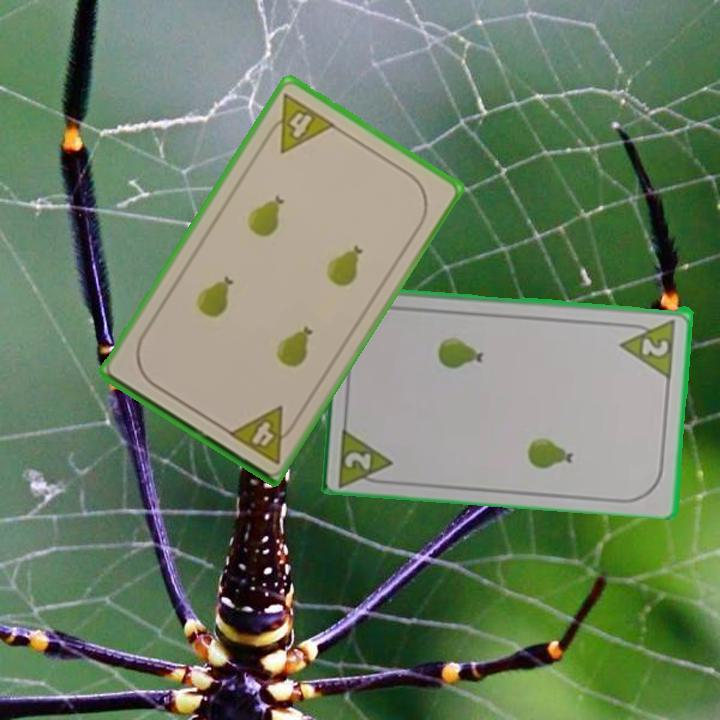2p: (335, 421, 397, 487), (618, 315, 679, 378)
4p: (259, 90, 338, 156), (224, 402, 301, 467)
